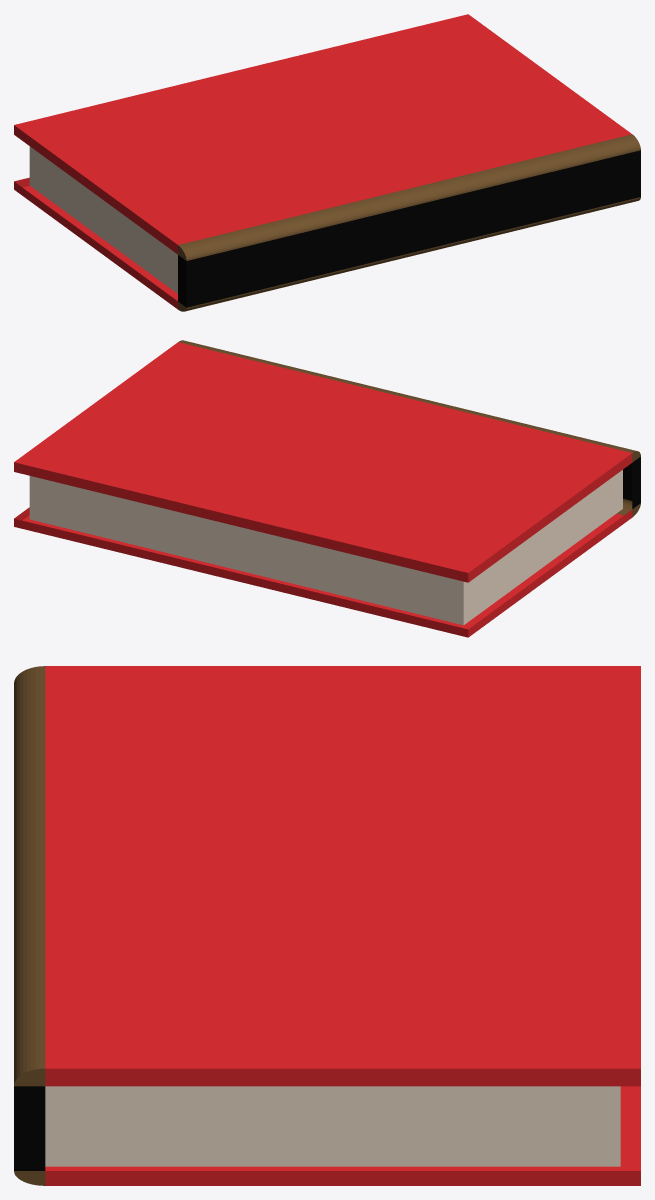
Rendered from redbook.dae.
3 views of the same model, one above another, from view 1: azimuth 30°, elevation 25°; view 2: azimuth 150°, elevation 25°; view 3: azimuth 270°, elevation 25° (orthographic). The views are drawn at different scales.
Visible parts, largest first — view 1: Cube, Cube.001; view 2: Cube, Cube.001; view 3: Cube, Cube.001.
Part boxes in pixels (<box>): Cube: <box>14,14,640,311</box>; Cube.001: <box>29,146,177,293</box>; Cube: <box>14,340,640,637</box>; Cube.001: <box>29,470,622,625</box>; Cube: <box>14,666,640,1185</box>; Cube.001: <box>45,1086,620,1166</box>.
Bounding box in the file's own units: 14.72 × 9.69 × 2.
